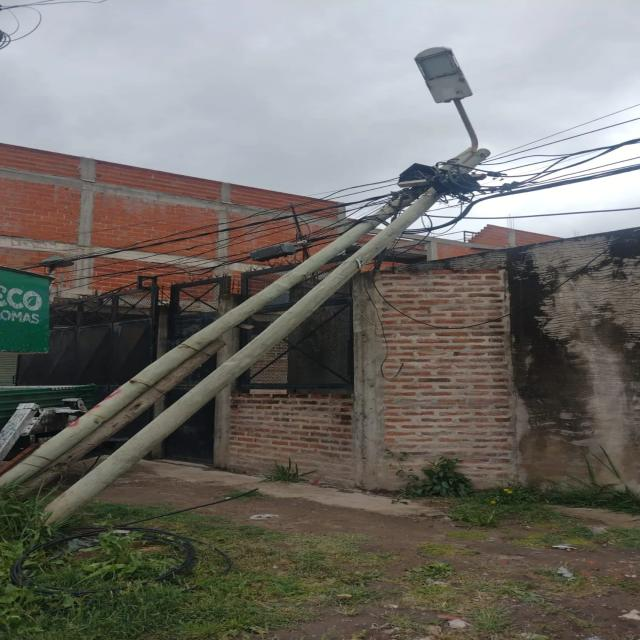Inclined Pole: (0, 31, 500, 539)
